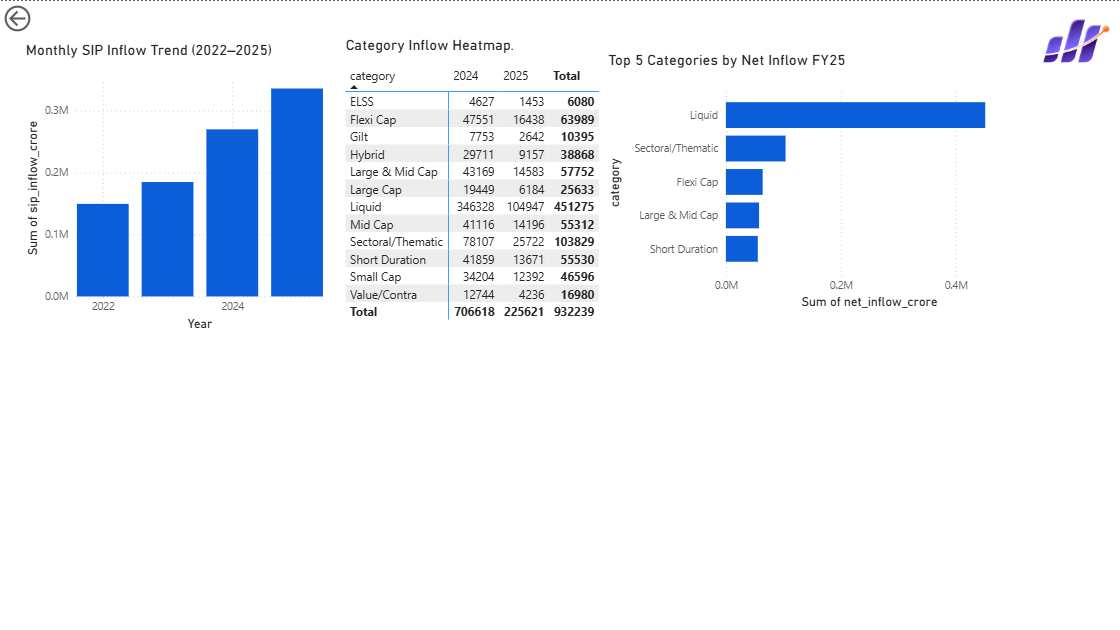

The dashboard page shown, as its layout file describes it:
{"tool":"powerbi","page":{"name":"SIP & Market Trends ","canvas":[1280,720],"ordinal":3},"visuals":[{"type":"lineClusteredColumnComboChart","title":"Monthly SIP Inflow Trend (2022–2025)","fields":{"Category":["04_monthly_sip_inflows.month.Variation.Date Hierarchy.Year","04_monthly_sip_inflows.month.Variation.Date Hierarchy.Quarter","04_monthly_sip_inflows.month.Variation.Date Hierarchy.Month","04_monthly_sip_inflows.month.Variation.Date Hierarchy.Day"],"Y":["Sum(04_monthly_sip_inflows.sip_inflow_crore)"]},"box":[24.3,45.7,350,335.7],"z":0},{"type":"pivotTable","title":"Category Inflow Heatmap.","fields":{"Rows":["05_category_inflows.category"],"Columns":["05_category_inflows.month.Variation.Date Hierarchy.Year","05_category_inflows.month.Variation.Date Hierarchy.Quarter","05_category_inflows.month.Variation.Date Hierarchy.Month","05_category_inflows.month.Variation.Date Hierarchy.Day"],"Values":["Sum(05_category_inflows.net_inflow_crore)"]},"box":[390,40,300,334.3],"z":1000},{"type":"clusteredBarChart","title":"Top 5 Categories by Net Inflow FY25","fields":{"Category":["05_category_inflows.category"],"Y":["Sum(05_category_inflows.net_inflow_crore)"]},"box":[690,57.1,487.1,300],"z":2000},{"type":"actionButton","box":[0,0,100,40],"z":3000},{"type":"image","box":[1177.1,0,102.9,91.4],"z":3001}]}

Visuals, with their boxes in screenshot pixels (x1, y1, x2, y2), scaled from the page's 1280x720 canvas onto the 1120x630 screenshot:
"Monthly SIP Inflow Trend (2022–2025)" lineClusteredColumnComboChart: x1=21 y1=40 x2=328 y2=334
"Category Inflow Heatmap." pivotTable: x1=341 y1=35 x2=604 y2=328
"Top 5 Categories by Net Inflow FY25" clusteredBarChart: x1=604 y1=50 x2=1030 y2=312
actionButton: x1=0 y1=0 x2=88 y2=35
image: x1=1030 y1=0 x2=1119 y2=80
